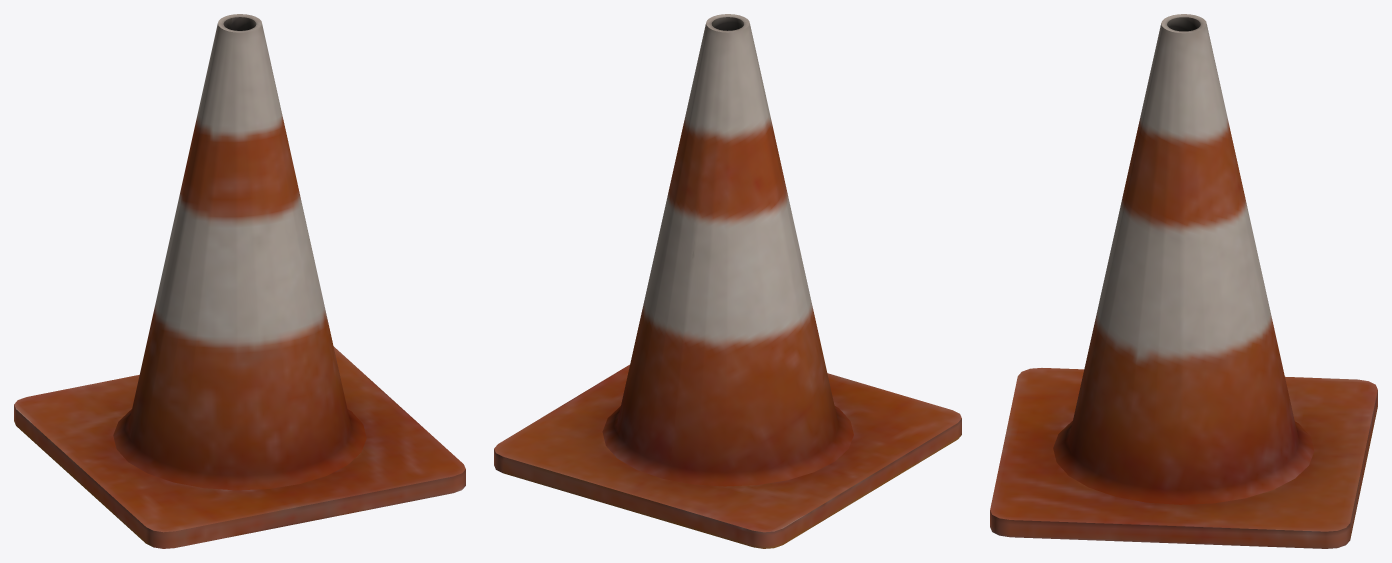
Rendered from SM_Cones.gltf.
3 renders of one model, left to right at view 1: azimuth 30°, elevation 25°; view 2: azimuth 150°, elevation 25°; view 3: azimuth 270°, elevation 25°, orthographic. The views are drawn at different scales.
Visible parts, largest first — view 1: SM_Cones_C8; view 2: SM_Cones_C8; view 3: SM_Cones_C8.
Part boxes in pixels (box(x1,y1,x2,y2)): SM_Cones_C8: box(14, 14, 465, 548); SM_Cones_C8: box(494, 14, 961, 548); SM_Cones_C8: box(990, 14, 1377, 548).
Size of the model in its own units: 0.517 by 0.6523 by 0.517.
1 material, 1 textured.
